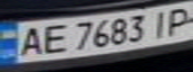3: (124, 11, 151, 43)
6: (90, 16, 115, 50)
7: (69, 19, 97, 52)
8: (109, 16, 133, 47)
A: (12, 24, 48, 58)
E: (36, 20, 72, 56)
I: (145, 7, 175, 38)
P: (160, 4, 193, 36)
